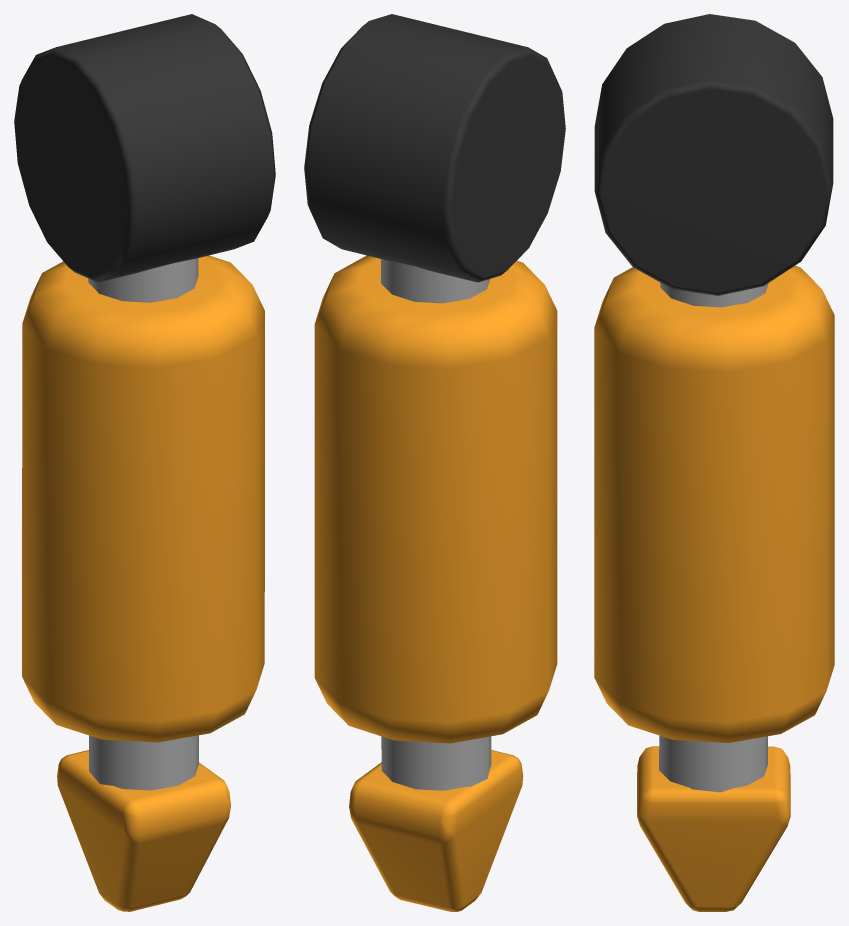
Rendered from obstacle_11_006.fbx.
3 views of the same model, side by side, from view 1: azimuth 30°, elevation 25°; view 2: azimuth 150°, elevation 25°; view 3: azimuth 270°, elevation 25° (orthographic).
Parts seen in each view (by area): view 1: obstacle_11_006; view 2: obstacle_11_006; view 3: obstacle_11_006.
Part boxes in pixels (x1=…): obstacle_11_006: x1=14, y1=14, x2=275, y2=911; obstacle_11_006: x1=304, y1=14, x2=565, y2=911; obstacle_11_006: x1=594, y1=14, x2=834, y2=911.
Bounding box in the file's own units: 102 × 103 × 401.
